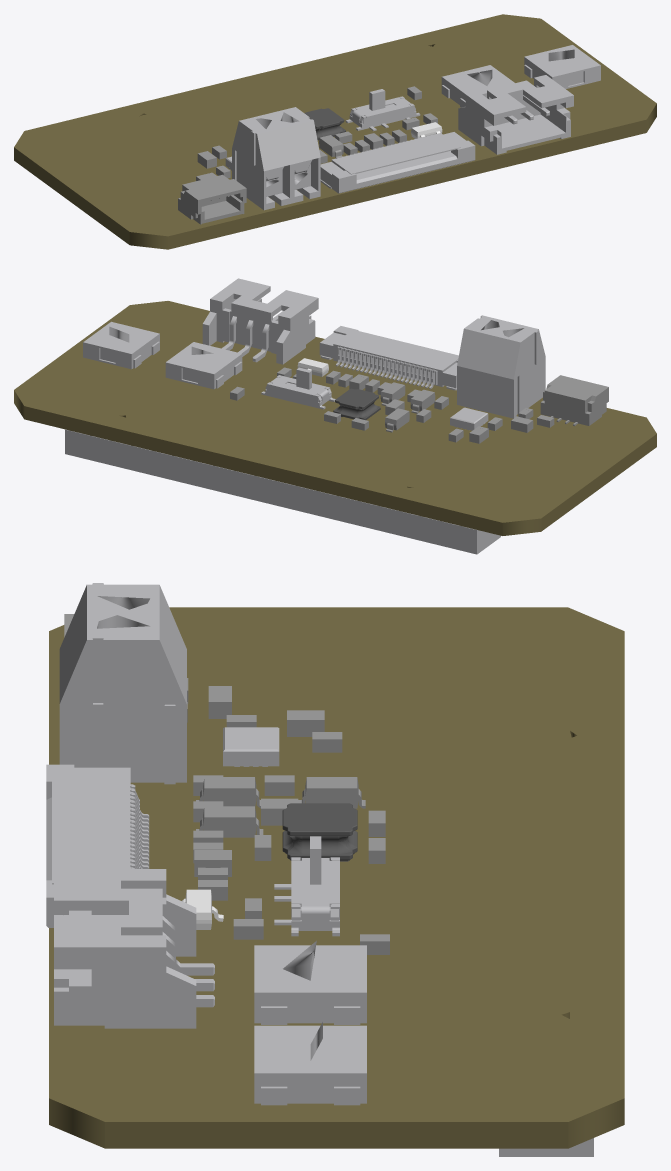
The model's file is ada-6418.glb.
The picture shows the model from 3 angles, top to bottom: view 1: azimuth 30°, elevation 25°; view 2: azimuth 150°, elevation 25°; view 3: azimuth 270°, elevation 25°; orthographic projection. The views are drawn at different scales.
Parts seen in each view (by area): view 1: 0.16666666666666666_0.16666666666666666_0.08333333333333333_, 0.5833333333333334_0.5833333333333334_0.5833333333333334_0.8, 0.3333333333333333_0.3333333333333333_0.3333333333333333_0, 0.08333333333333333_0.08333333333333333_0.08333333333333333_, 0.9166666666666666_0.9166666666666666_0.9166666666666666_0.8; view 2: 0.16666666666666666_0.16666666666666666_0.08333333333333333_, 0.5833333333333334_0.5833333333333334_0.5833333333333334_0.8, 0.3333333333333333_0.3333333333333333_0.3333333333333333_0, 0.08333333333333333_0.08333333333333333_0.08333333333333333_; view 3: 0.16666666666666666_0.16666666666666666_0.08333333333333333_, 0.5833333333333334_0.5833333333333334_0.5833333333333334_0.8, 0.3333333333333333_0.3333333333333333_0.3333333333333333_0, 0.08333333333333333_0.08333333333333333_0.08333333333333333_, 0.9166666666666666_0.9166666666666666_0.9166666666666666_0.8.
Part boxes in pixels (x1,y1,x2,y2): 0.16666666666666666_0.16666666666666666_0.08333333333333333_: (14, 14, 656, 249); 0.5833333333333334_0.5833333333333334_0.5833333333333334_0.8: (225, 45, 600, 210); 0.3333333333333333_0.3333333333333333_0.3333333333333333_0: (178, 86, 437, 224); 0.08333333333333333_0.08333333333333333_0.08333333333333333_: (304, 108, 345, 140); 0.9166666666666666_0.9166666666666666_0.9166666666666666_0.8: (411, 122, 442, 138); 0.16666666666666666_0.16666666666666666_0.08333333333333333_: (14, 301, 656, 535); 0.5833333333333334_0.5833333333333334_0.5833333333333334_0.8: (65, 278, 545, 554); 0.3333333333333333_0.3333333333333333_0.3333333333333333_0: (230, 367, 608, 443); 0.08333333333333333_0.08333333333333333_0.08333333333333333_: (333, 388, 380, 420); 0.16666666666666666_0.16666666666666666_0.08333333333333333_: (49, 607, 624, 1148); 0.5833333333333334_0.5833333333333334_0.5833333333333334_0.8: (46, 583, 593, 1156); 0.3333333333333333_0.3333333333333333_0.3333333333333333_0: (64, 614, 389, 954); 0.08333333333333333_0.08333333333333333_0.08333333333333333_: (282, 803, 357, 861); 0.9166666666666666_0.9166666666666666_0.9166666666666666_0.8: (182, 889, 223, 929).
Bounding box in the file's own units: 6.5 × 1.38 × 3.09.
